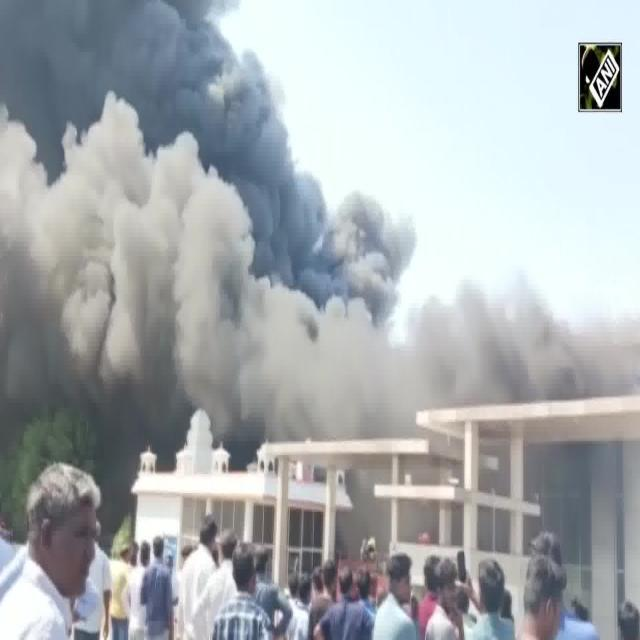Smoke: (7, 12, 256, 390)
